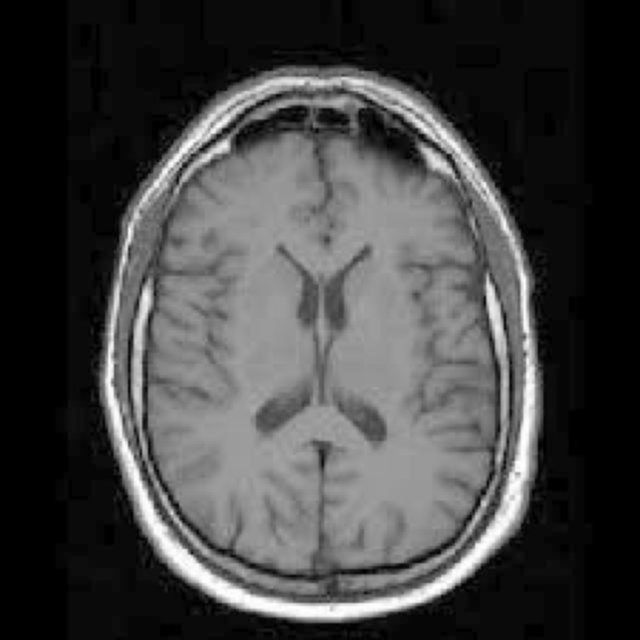glioma tumor: (199, 125, 469, 578)
